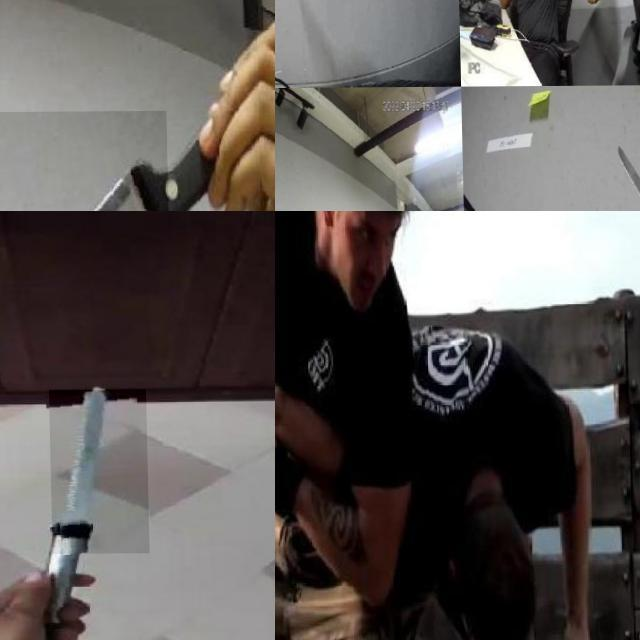-: (0, 111, 171, 211), (48, 390, 148, 554), (275, 0, 383, 91), (275, 404, 323, 454), (584, 0, 619, 14)
